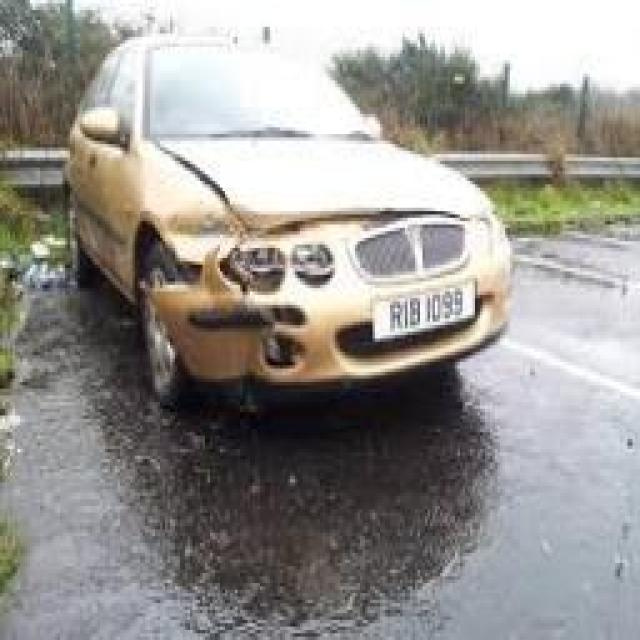replaceable: (156, 202, 333, 396)
